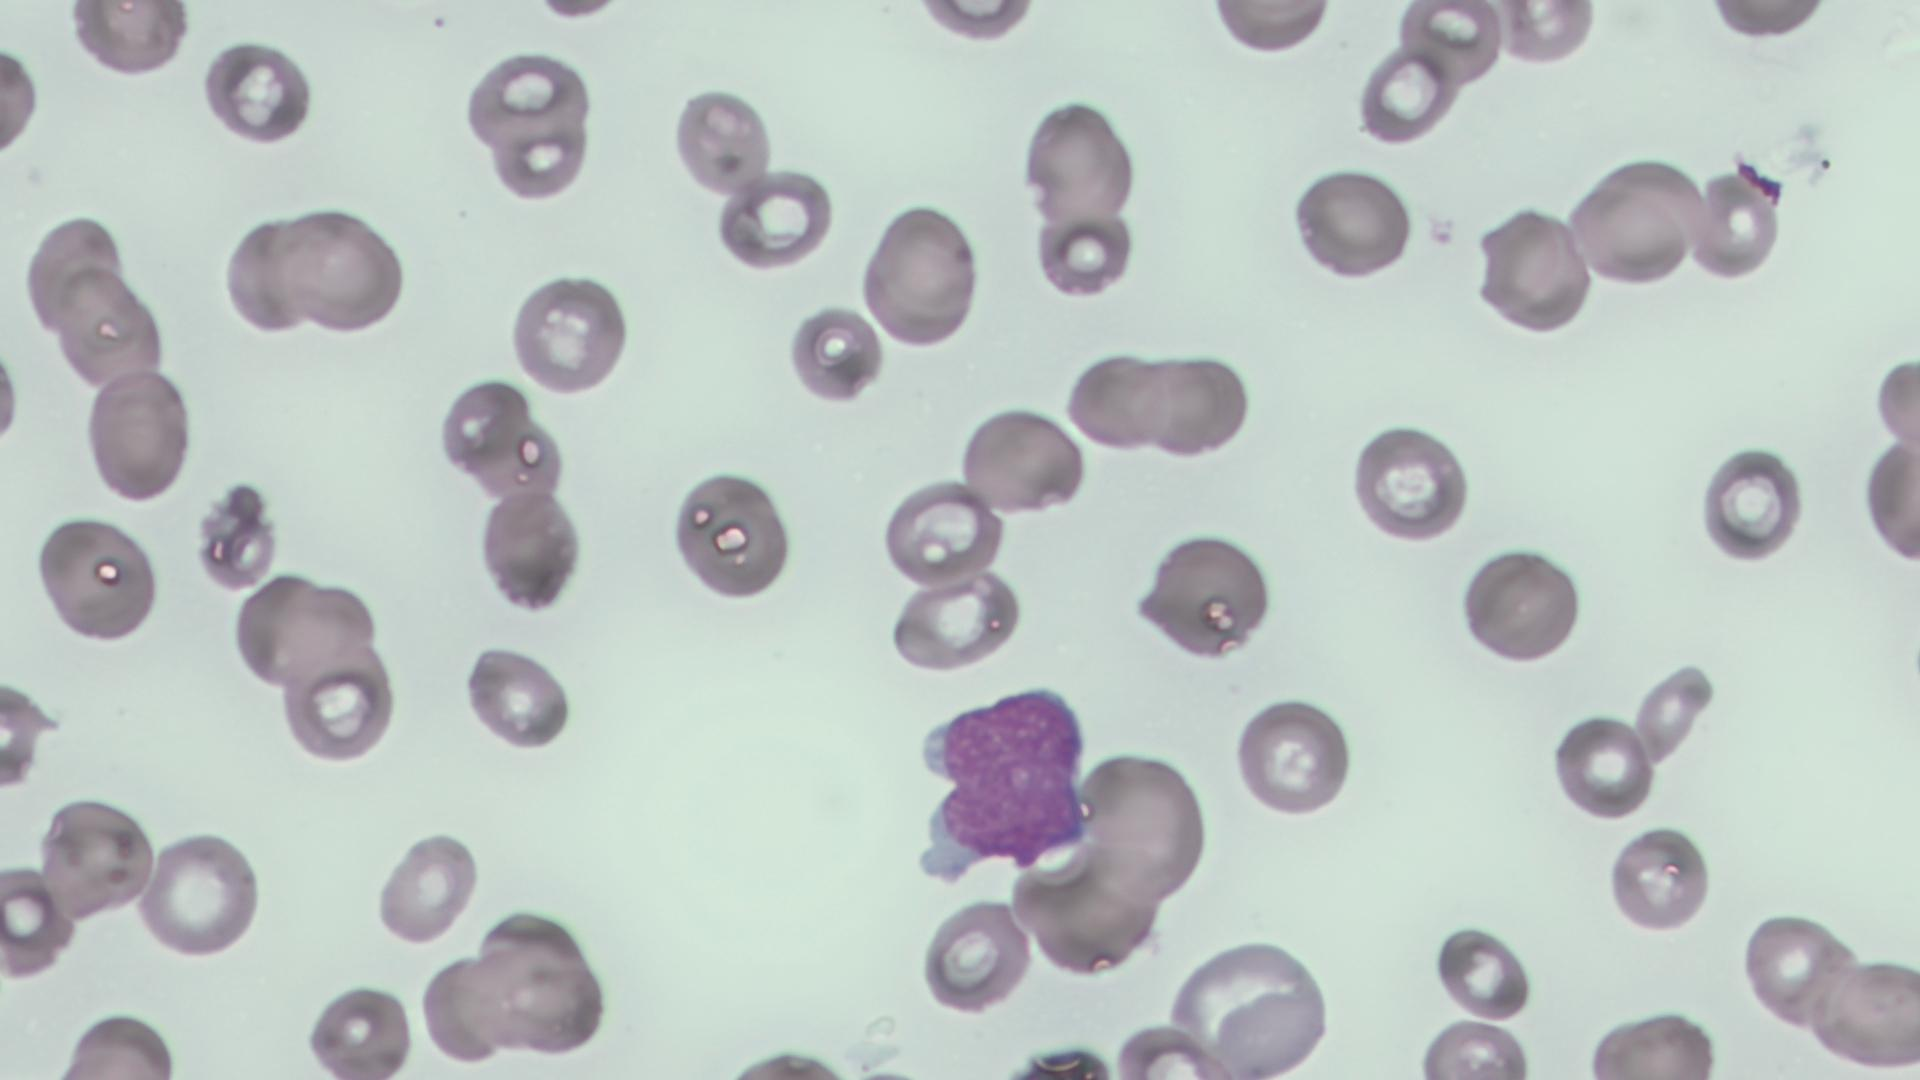Platelets: (1012, 1036, 1116, 1076)
RBC: (1072, 742, 1214, 905), (1129, 525, 1279, 663), (860, 199, 986, 351), (226, 567, 371, 694), (30, 509, 165, 645), (666, 464, 796, 605), (1566, 159, 1701, 292), (505, 264, 634, 401), (1473, 199, 1598, 339), (280, 204, 410, 337), (137, 827, 265, 961), (1232, 691, 1360, 823), (1454, 542, 1587, 667), (36, 791, 160, 923), (81, 364, 196, 506), (1285, 162, 1418, 283), (881, 566, 1027, 675), (1020, 93, 1137, 228), (874, 475, 1010, 590), (957, 400, 1086, 517), (55, 259, 169, 390), (460, 46, 594, 157), (476, 483, 587, 617), (198, 32, 318, 152), (1605, 817, 1719, 940), (712, 162, 836, 275), (373, 823, 483, 950), (668, 77, 778, 204), (279, 653, 401, 764), (457, 638, 575, 752), (220, 208, 320, 340), (1810, 949, 1918, 1070), (1138, 347, 1252, 461), (434, 370, 536, 495), (1548, 707, 1659, 821), (300, 975, 420, 1080), (1686, 161, 1785, 285), (1208, 983, 1334, 1078), (1060, 348, 1172, 452), (416, 948, 514, 1066), (782, 300, 886, 408), (1354, 45, 1456, 149), (1578, 1004, 1725, 1076), (1394, 0, 1508, 91), (1030, 208, 1141, 300), (1, 854, 78, 983), (68, 3, 190, 83), (1857, 422, 1920, 575), (488, 121, 592, 200), (1206, 1, 1335, 57), (1108, 1023, 1238, 1078), (1492, 1, 1600, 67), (0, 672, 57, 794), (905, 0, 1046, 45), (0, 25, 43, 171), (1700, 0, 1834, 42)
WBC: (904, 674, 1100, 884)
